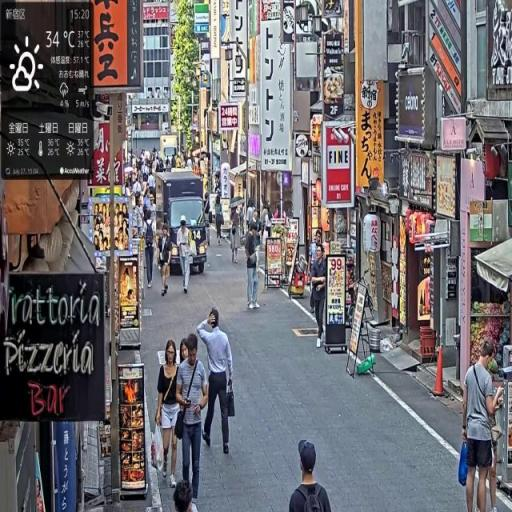person: (174, 332, 211, 510), (196, 307, 237, 455), (155, 340, 184, 489), (289, 441, 334, 512), (310, 233, 329, 351), (245, 222, 262, 311), (177, 216, 195, 295), (158, 223, 175, 298), (143, 210, 157, 289), (230, 199, 242, 266), (215, 193, 225, 245)
